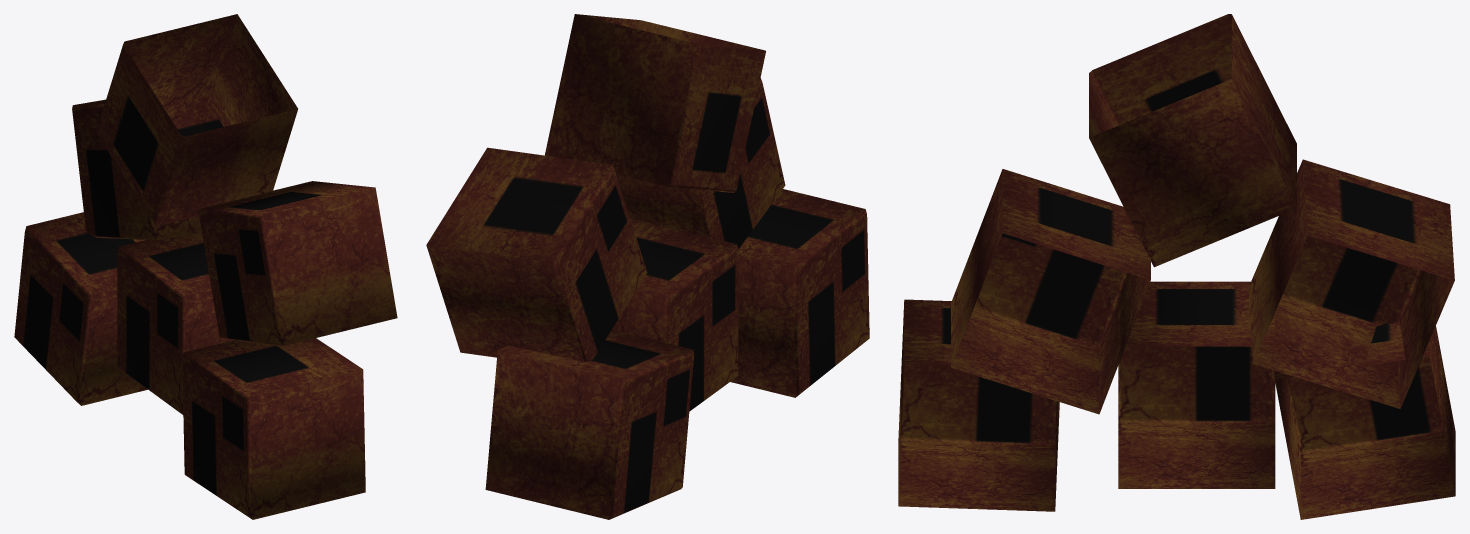
Rendered from smallSideHouses.fbx.
The picture shows the model from 3 angles, left to right: view 1: azimuth 30°, elevation 25°; view 2: azimuth 150°, elevation 25°; view 3: azimuth 270°, elevation 25°; orthographic projection. The views are drawn at different scales.
Parts seen in each view (by area): view 1: smallSideHouse5, smallSideHouse, smallSideHouse4, smallSideHouse2, smallSideHouse1, smallSideHouse3; view 2: smallSideHouse3, smallSideHouse2, smallSideHouse5, smallSideHouse, smallSideHouse1, smallSideHouse4; view 3: smallSideHouse5, smallSideHouse3, smallSideHouse4, smallSideHouse1, smallSideHouse, smallSideHouse2.
Part boxes in pixels (x1,y1,x2,y2): smallSideHouse5: [96, 14, 297, 226]; smallSideHouse: [182, 338, 365, 519]; smallSideHouse4: [198, 181, 397, 345]; smallSideHouse2: [14, 212, 147, 405]; smallSideHouse1: [117, 232, 232, 414]; smallSideHouse3: [72, 99, 201, 240]; smallSideHouse3: [426, 147, 647, 361]; smallSideHouse2: [485, 330, 694, 519]; smallSideHouse5: [544, 14, 765, 192]; smallSideHouse: [730, 189, 869, 397]; smallSideHouse1: [612, 219, 738, 411]; smallSideHouse4: [616, 78, 785, 248]; smallSideHouse5: [1089, 14, 1296, 267]; smallSideHouse3: [1248, 159, 1454, 408]; smallSideHouse4: [951, 169, 1150, 414]; smallSideHouse1: [1118, 281, 1275, 488]; smallSideHouse: [898, 299, 1061, 511]; smallSideHouse2: [1274, 322, 1455, 519].
Bounding box in the file's own units: 4.33 × 8.93 × 10.05.
